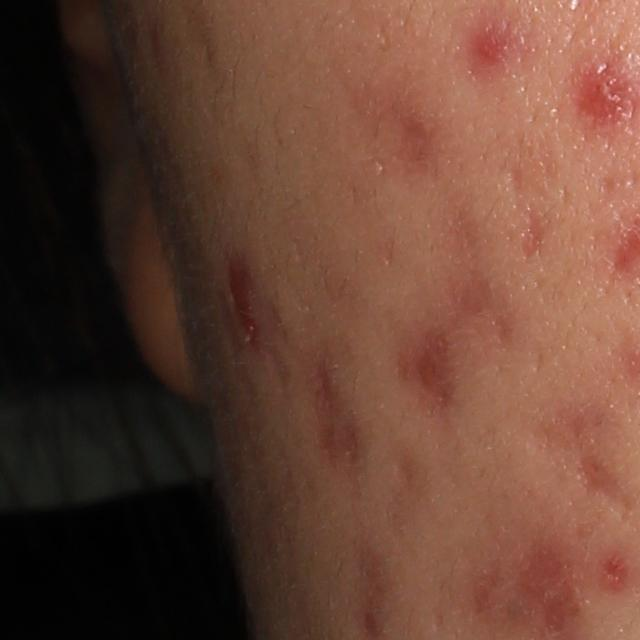atrophic_scar: (290, 332, 375, 500), (367, 314, 468, 425), (530, 405, 622, 505), (507, 144, 553, 265)
papule: (586, 72, 625, 116), (474, 33, 504, 63)
